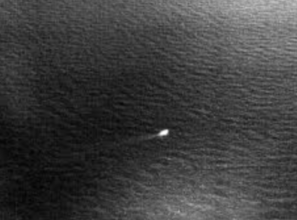Target: (157, 129, 168, 135)
